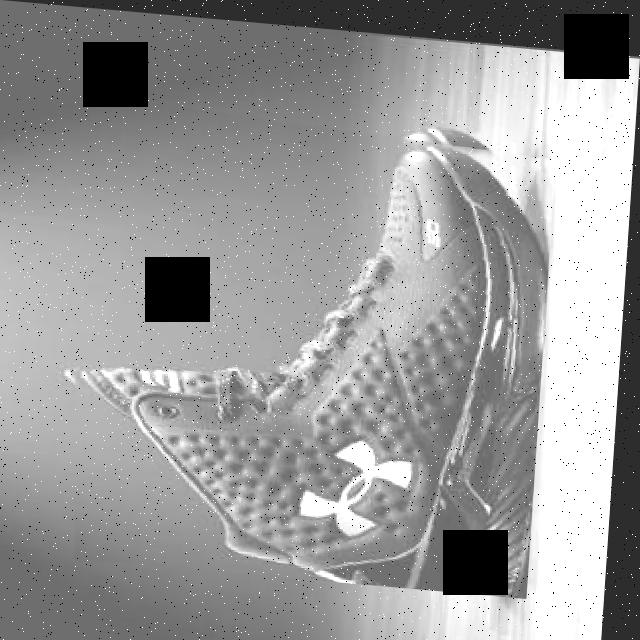shoe: (54, 91, 559, 588)
